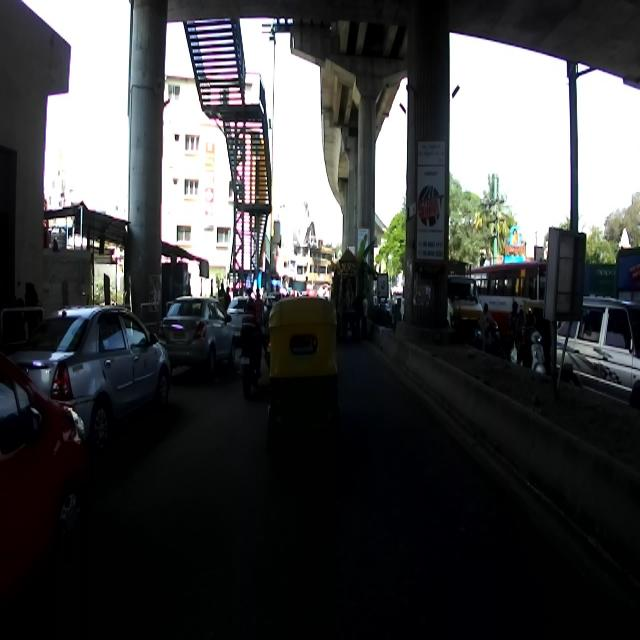autorickshaw: (266, 295, 342, 459)
car: (7, 304, 171, 447), (0, 353, 87, 608), (548, 294, 640, 404), (158, 295, 236, 378)
